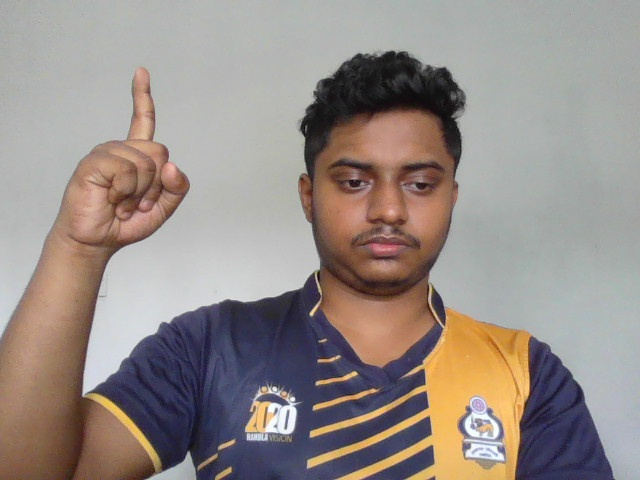Me: (61, 65, 193, 254)
